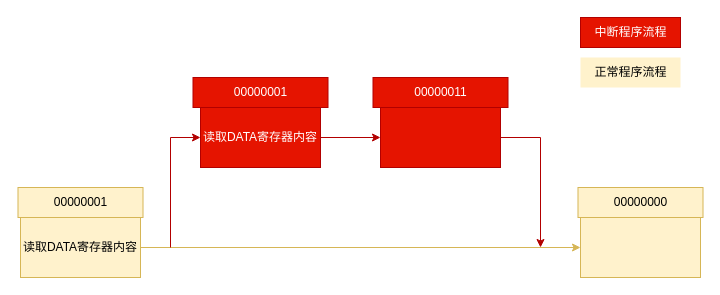
This 720x295 diagram has some shape labels left out. Each missing label, with the box of its shape:
修改DATA寄存器并写入关闭绿色LED: (580, 216, 700, 278)
修改DATA寄存器并写入点亮了蓝色LED: (380, 106, 500, 168)
